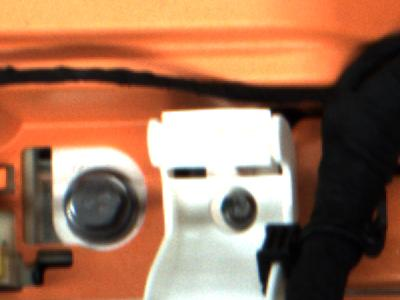nut_b: (58, 169, 151, 243)
